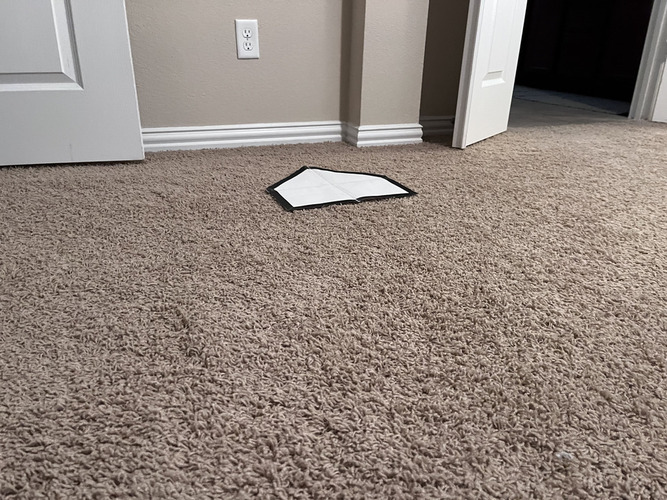homeplate: (268, 165, 417, 213)
